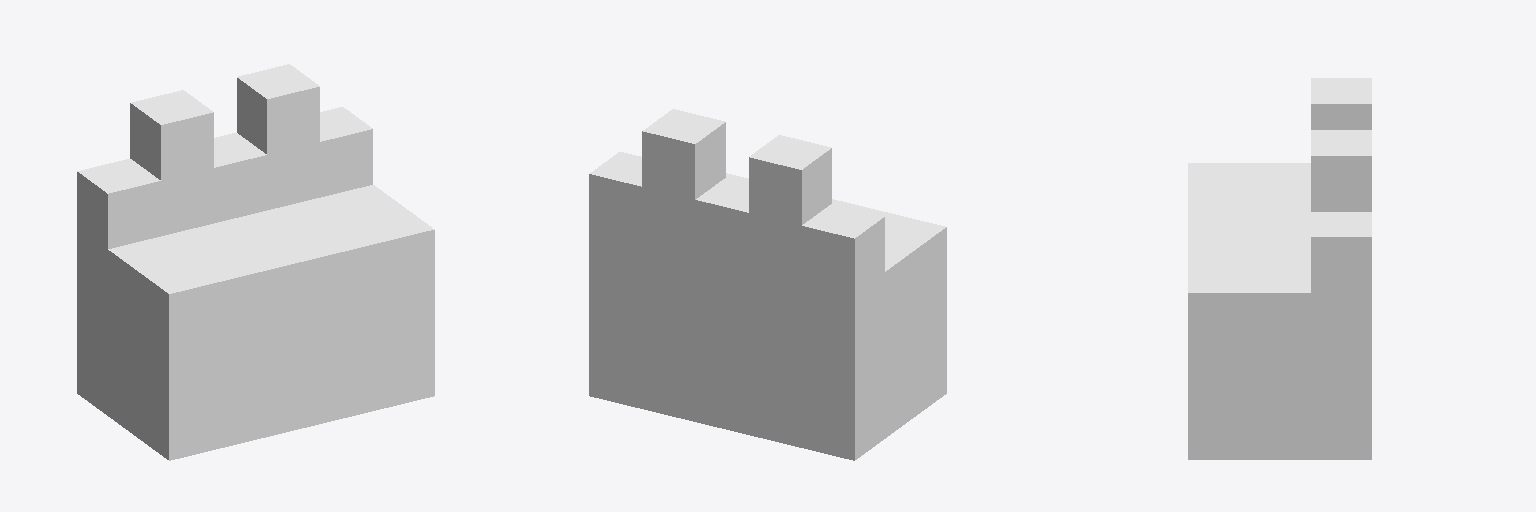
Rendered from straightwall1.obj.
The picture shows the model from 3 angles: view 1: azimuth 30°, elevation 25°; view 2: azimuth 150°, elevation 25°; view 3: azimuth 270°, elevation 25°; orthographic projection.
Parts seen in each view (by area): view 1: straightwall1; view 2: straightwall1; view 3: straightwall1.
Boxes of the visible parts, box(x1,y1,x2,y2) form: straightwall1: box(77, 64, 434, 460); straightwall1: box(589, 109, 946, 460); straightwall1: box(1188, 78, 1371, 459).
Size of the model in its own units: 5 by 5 by 3.